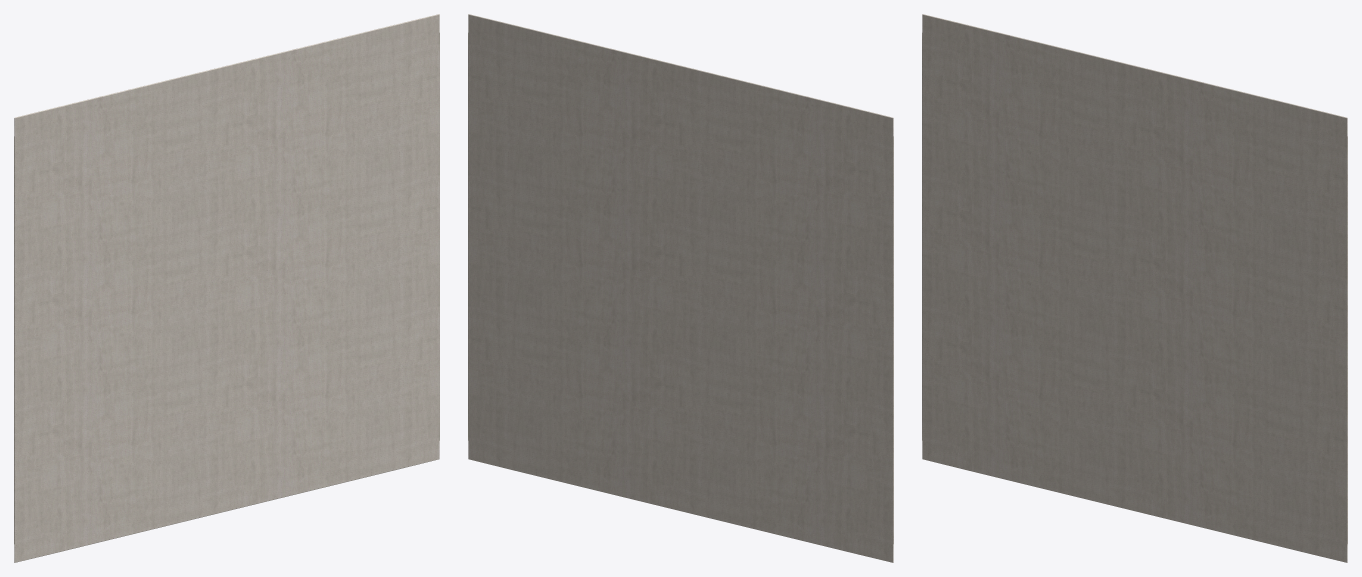
3 views of the same model, side by side, from view 1: azimuth 30°, elevation 25°; view 2: azimuth 150°, elevation 25°; view 3: azimuth 330°, elevation 25° (orthographic).
Visible parts, largest first — view 1: V2_Woven_Gauze_DoubleGauze_1; view 2: V2_Woven_Gauze_DoubleGauze_1; view 3: V2_Woven_Gauze_DoubleGauze_1.
Part boxes in pixels (x1,y1,x2,y2): V2_Woven_Gauze_DoubleGauze_1: (14, 14, 439, 562); V2_Woven_Gauze_DoubleGauze_1: (468, 14, 893, 562); V2_Woven_Gauze_DoubleGauze_1: (922, 14, 1347, 562).
Bounding box in the file's own units: 0.2005 × 0.2005 × 0.0005.
Materials: 1 (1 with a texture image).
